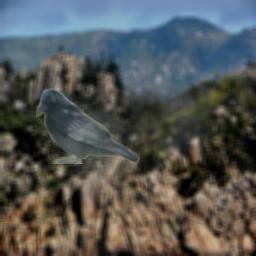Crow: (36, 88, 140, 164)
